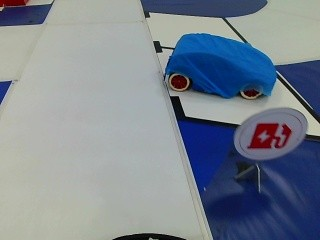battery: (244, 118, 294, 153)
car: (153, 33, 278, 99)
